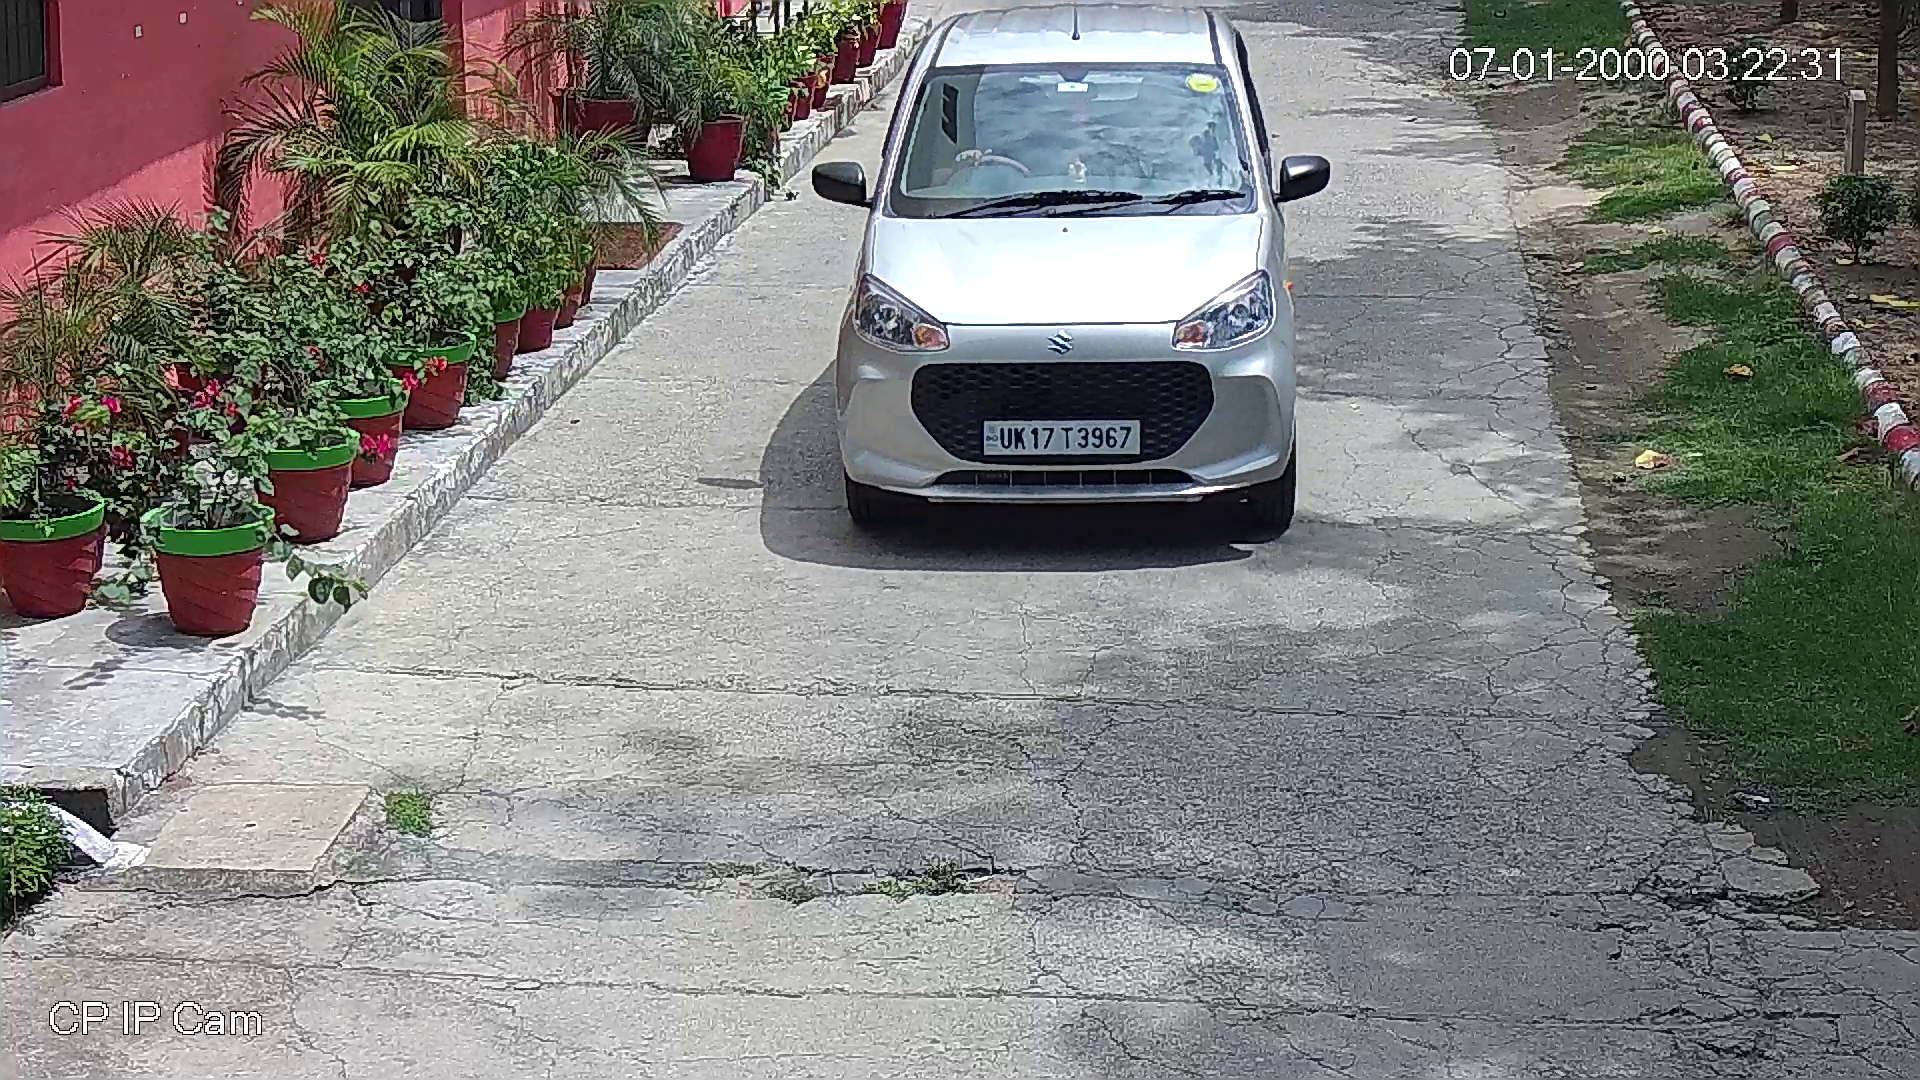plate: (983, 420, 1141, 457)
